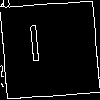I: (25, 24, 45, 72)
